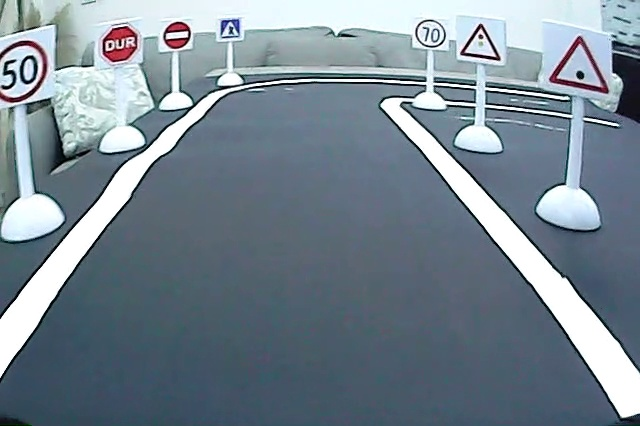do not enter: (161, 18, 192, 52)
green light: (543, 29, 612, 96)
pedestrian crossing: (218, 18, 243, 40)
red light: (457, 20, 504, 65)
speed limit 50: (1, 36, 54, 106)
speed limit 70: (412, 17, 449, 51)
stop sign: (97, 20, 142, 67)
